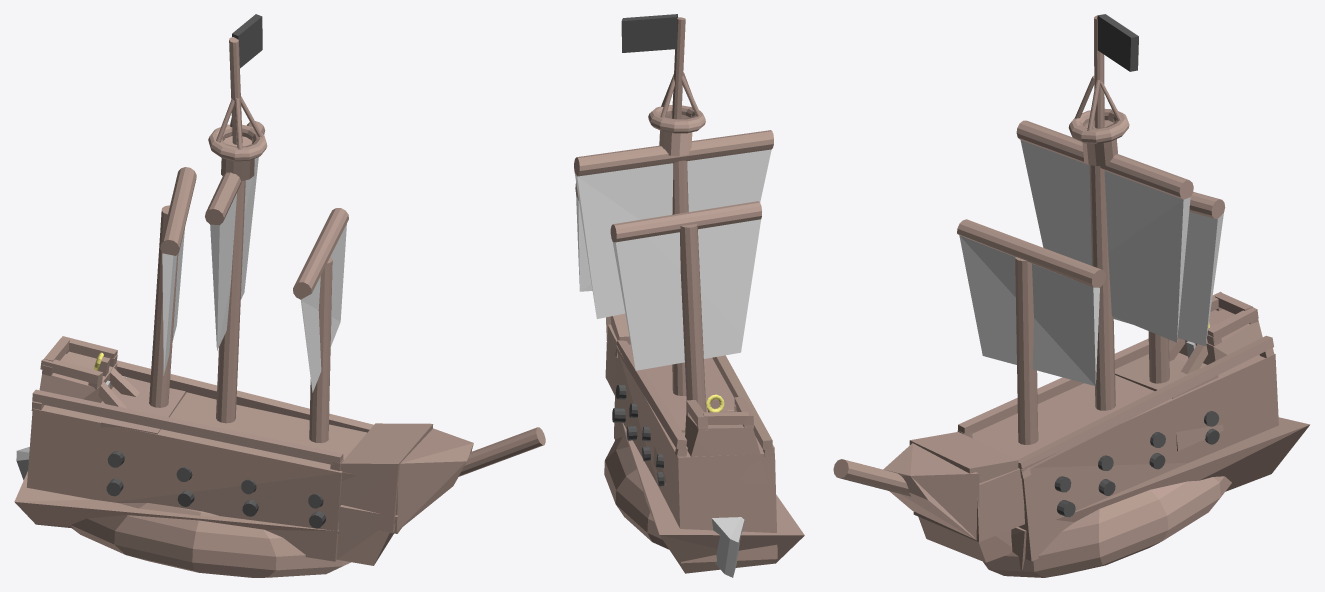
Rendered from ship.fbx.
3 views of the same model, side by side, from view 1: azimuth 30°, elevation 25°; view 2: azimuth 150°, elevation 25°; view 3: azimuth 270°, elevation 25° (orthographic). The views are drawn at different scales.
Visible parts, largest first — view 1: group970421097; view 2: group970421097; view 3: group970421097.
Boxes of the visible parts, <box> form: group970421097: <box>14,14,545,577</box>; group970421097: <box>574,14,804,577</box>; group970421097: <box>833,14,1309,577</box>.
Size of the model in its own units: 84.01 by 116 by 93.06.
